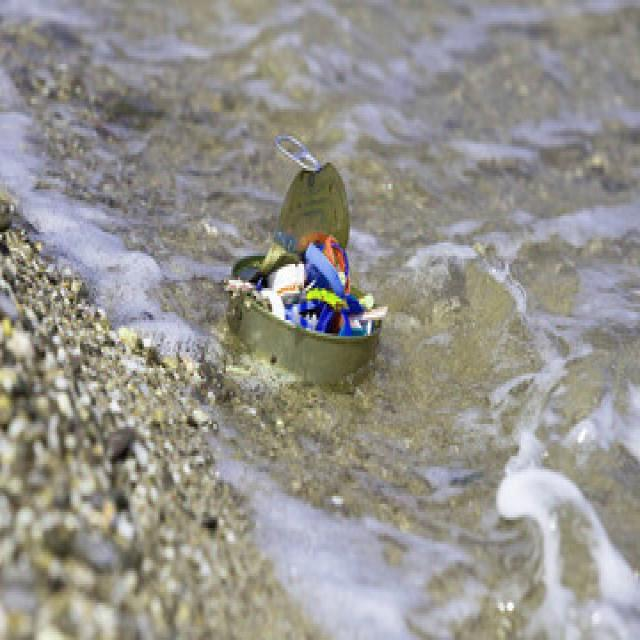Metal: (214, 133, 399, 388)
